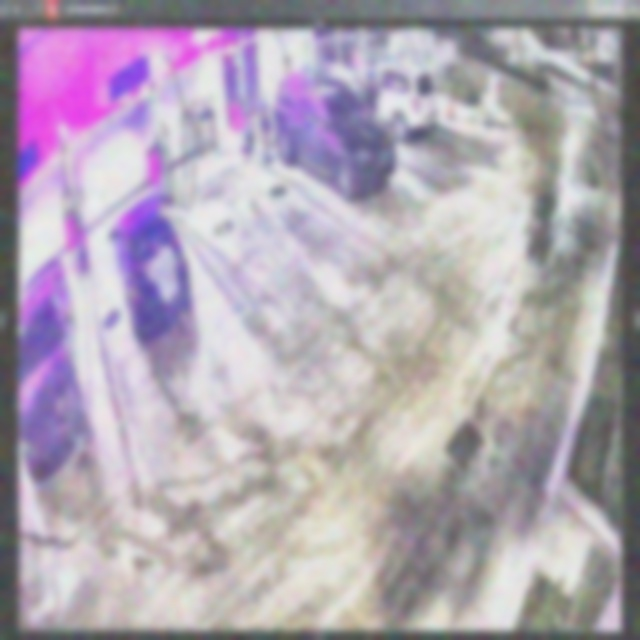Car: (273, 68, 397, 197), (111, 194, 188, 336)
